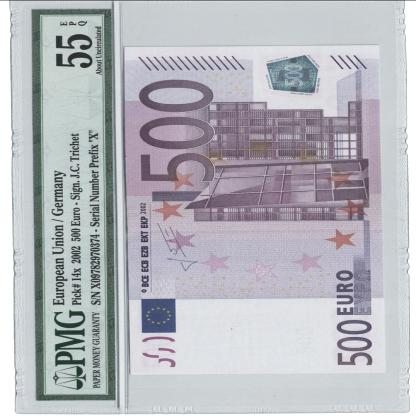euro_banknote: (92, 79, 416, 340)
